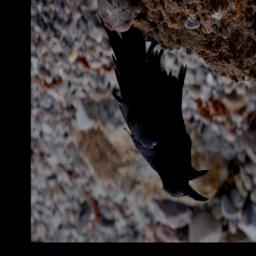Crow: (98, 15, 209, 201)
